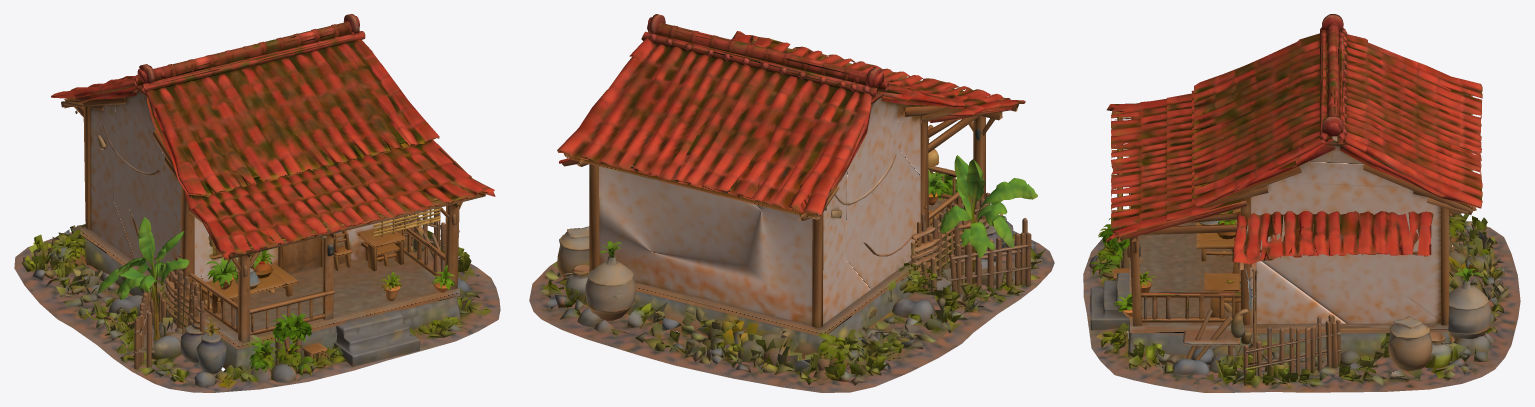
The model's file is Meshy_AI_Rumah_Tropis_Beratap__1031114937_texture.glb.
3 views of the same model, side by side, from view 1: azimuth 30°, elevation 25°; view 2: azimuth 150°, elevation 25°; view 3: azimuth 270°, elevation 25° (orthographic). The views are drawn at different scales.
Visible parts, largest first — view 1: geometry_0; view 2: geometry_0; view 3: geometry_0.
Boxes of the visible parts, left/top/right/bottom form: geometry_0: left=14, top=14, right=500, bottom=392; geometry_0: left=529, top=14, right=1054, bottom=392; geometry_0: left=1083, top=14, right=1520, bottom=392.
Size of the model in its own units: 0.9497 by 0.5767 by 0.9487.
1 material, 1 textured.
